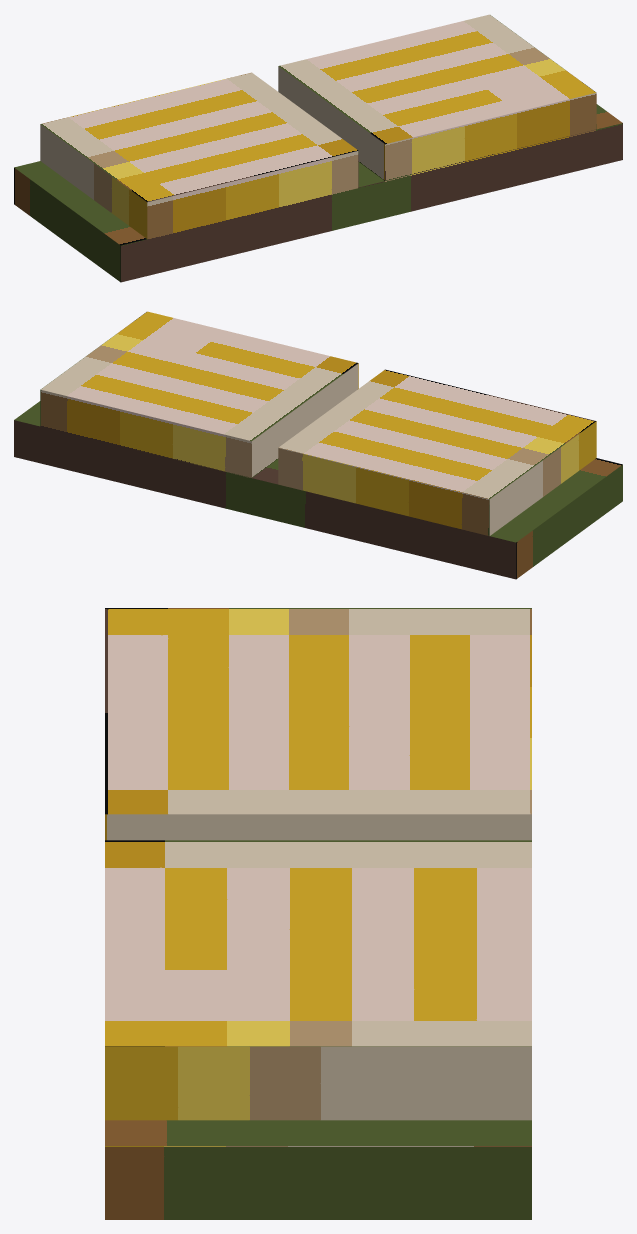
Rendered from book_0x282_06.glb.
The picture shows the model from 3 angles, top to bottom: view 1: azimuth 30°, elevation 25°; view 2: azimuth 150°, elevation 25°; view 3: azimuth 270°, elevation 25°; orthographic projection. The views are drawn at different scales.
Parts seen in each view (by area): view 1: Cube; view 2: Cube; view 3: Cube.
Boxes of the visible parts, x1,y1,x2,y2 form: Cube: (14,14,622,282); Cube: (14,311,622,579); Cube: (105,608,531,1219).
Bounding box in the file's own units: 1.19 × 0.1667 × 0.4375.
1 material, 1 textured.
